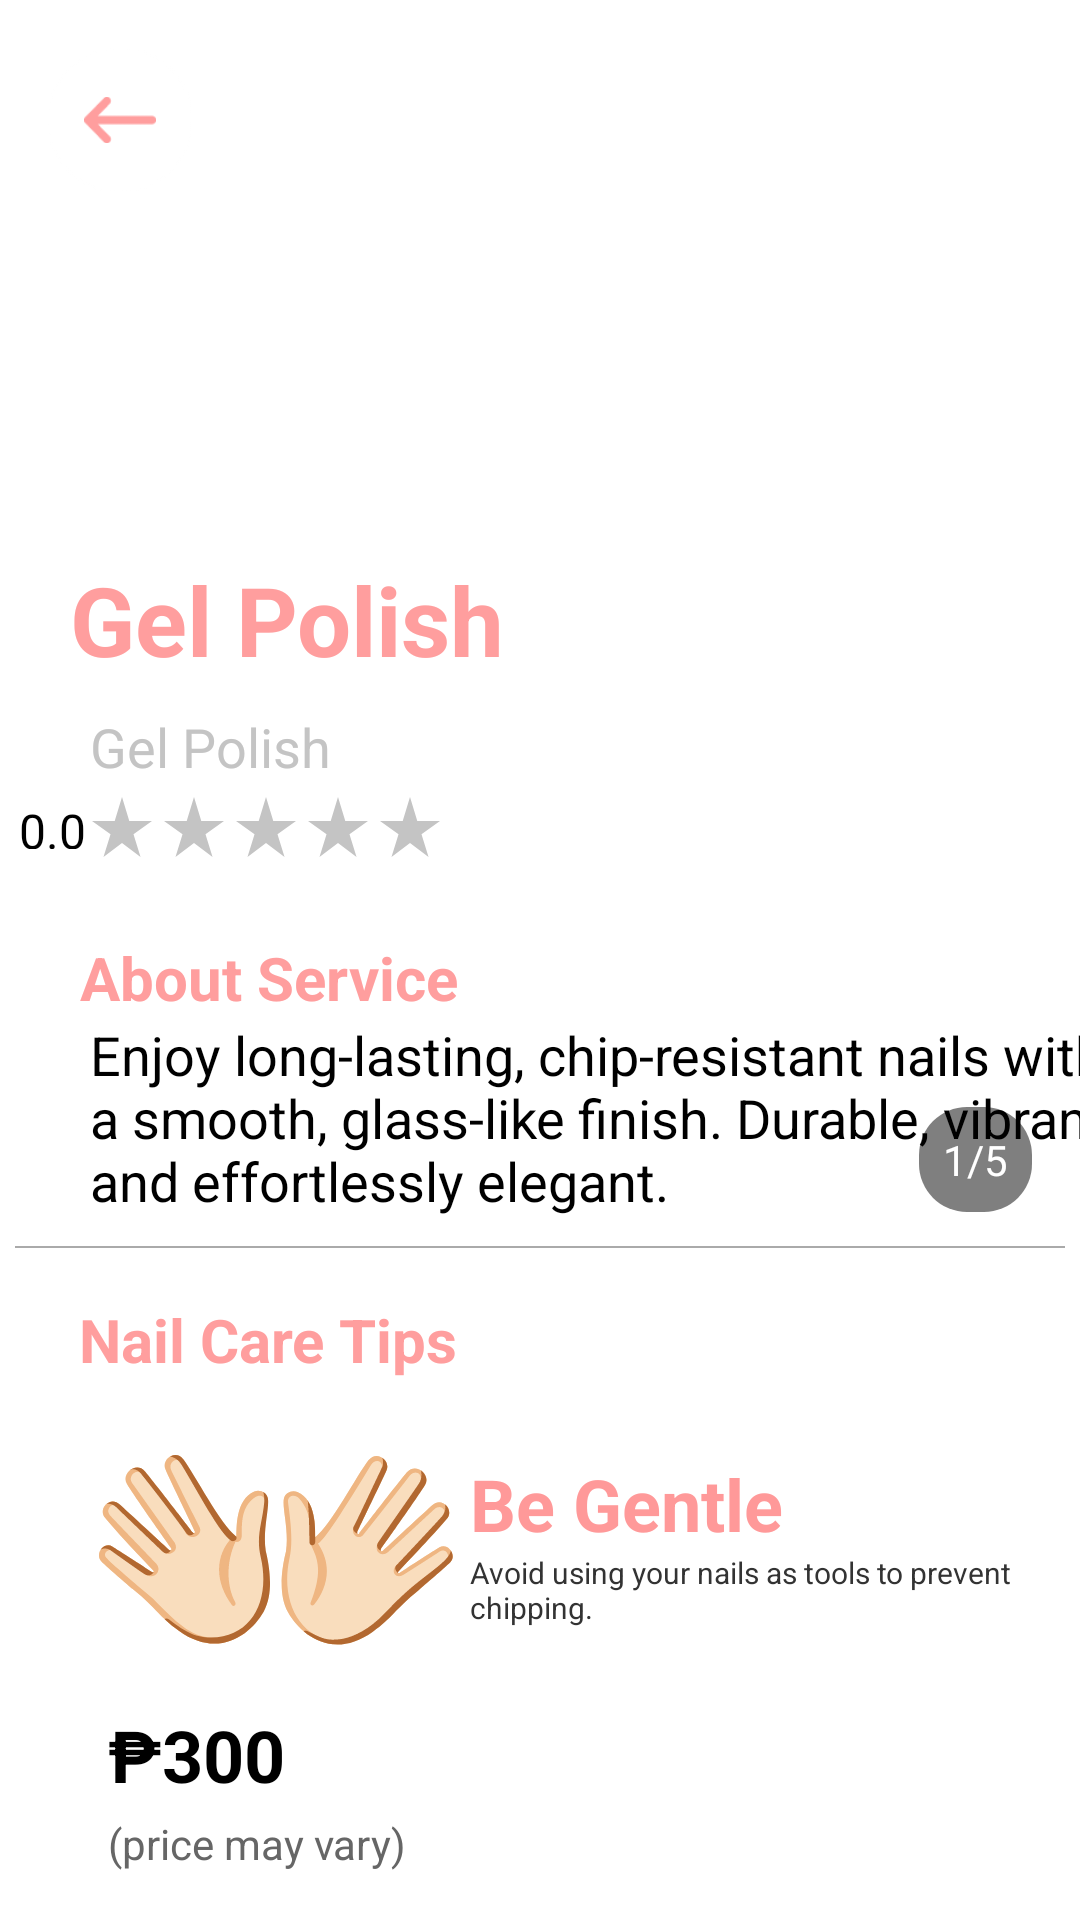

Icons on this 1080px x 1920px Android screen, each with its box as (x1, y1, x2, y2):
backarrow: (84, 97, 156, 143)
starwithoutfill: (93, 798, 151, 856), (165, 798, 223, 856), (237, 798, 295, 856), (309, 798, 367, 856), (381, 798, 439, 856)
